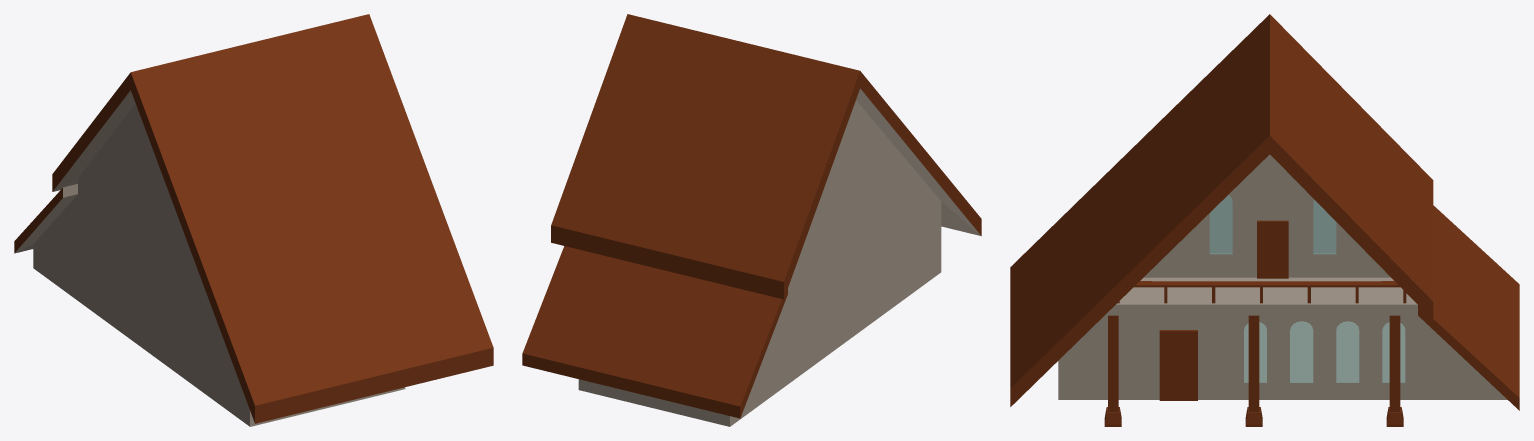
The picture shows the model from 3 angles, left to right: view 1: azimuth 30°, elevation 25°; view 2: azimuth 150°, elevation 25°; view 3: azimuth 270°, elevation 25°; orthographic projection. The views are drawn at different scales.
Parts seen in each view (by area): view 1: House1; view 2: House1; view 3: House1.
Part boxes in pixels (x1,y1,x2,y2): House1: [14, 14, 493, 426]; House1: [522, 14, 981, 426]; House1: [1010, 14, 1519, 426].
Size of the model in its own units: 1495 by 1708 by 2649.
